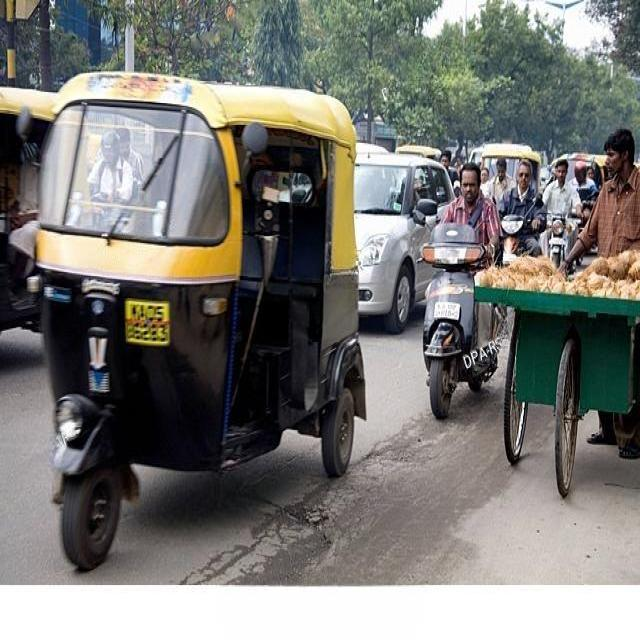autorickshaw: (38, 72, 366, 570)
car: (354, 153, 452, 333)
motorcycle: (424, 163, 501, 418)
